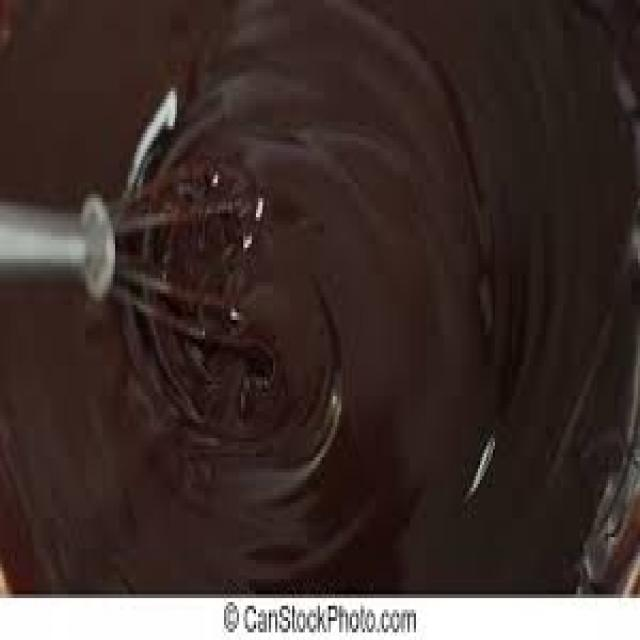chocolate: (0, 0, 640, 598)
